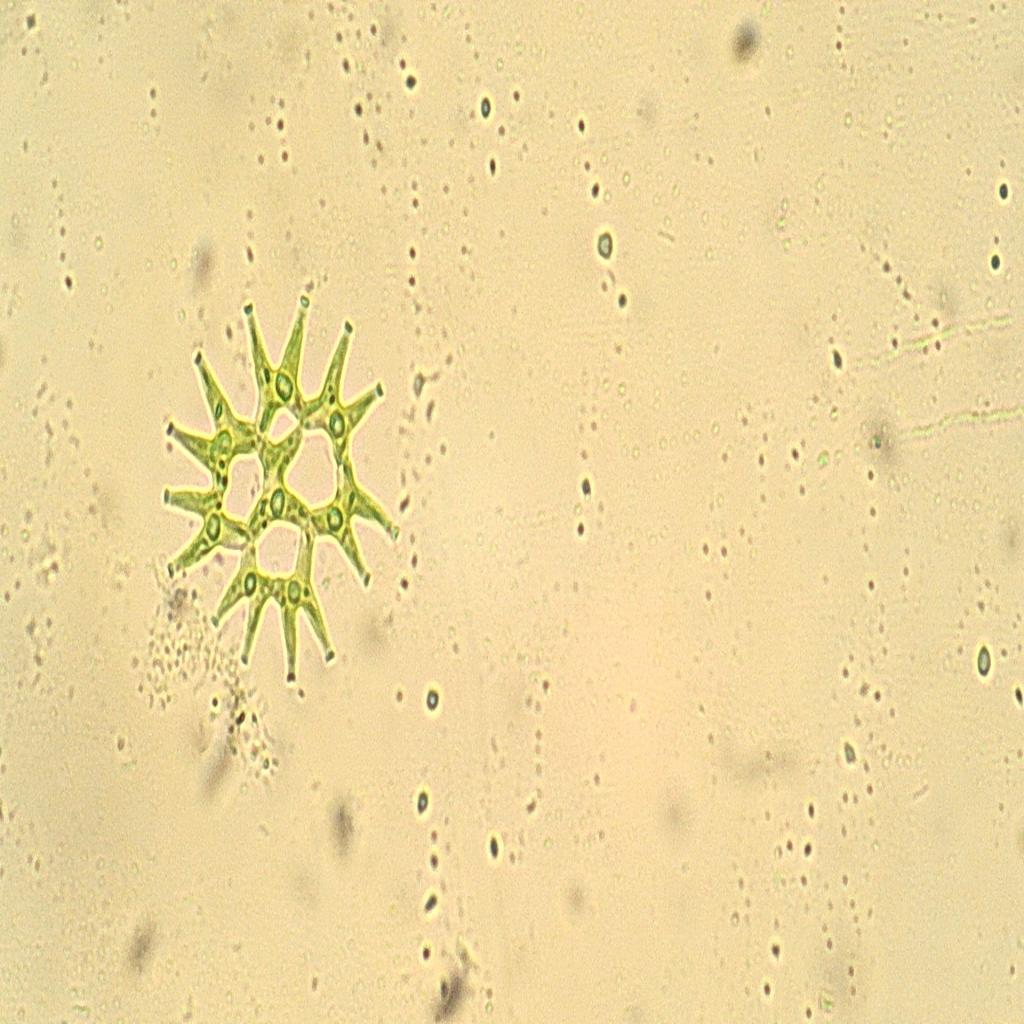Pediastrum_CTH: (134, 259, 418, 720)
